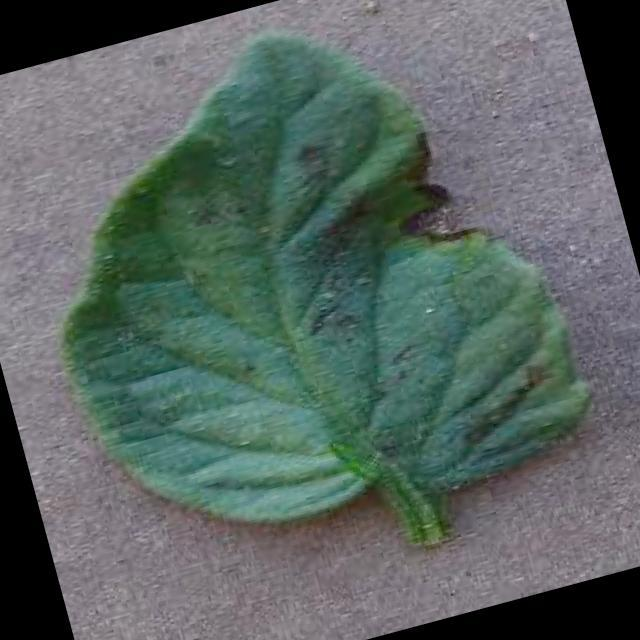Tomato Early blight leaf: (0, 0, 610, 578)
